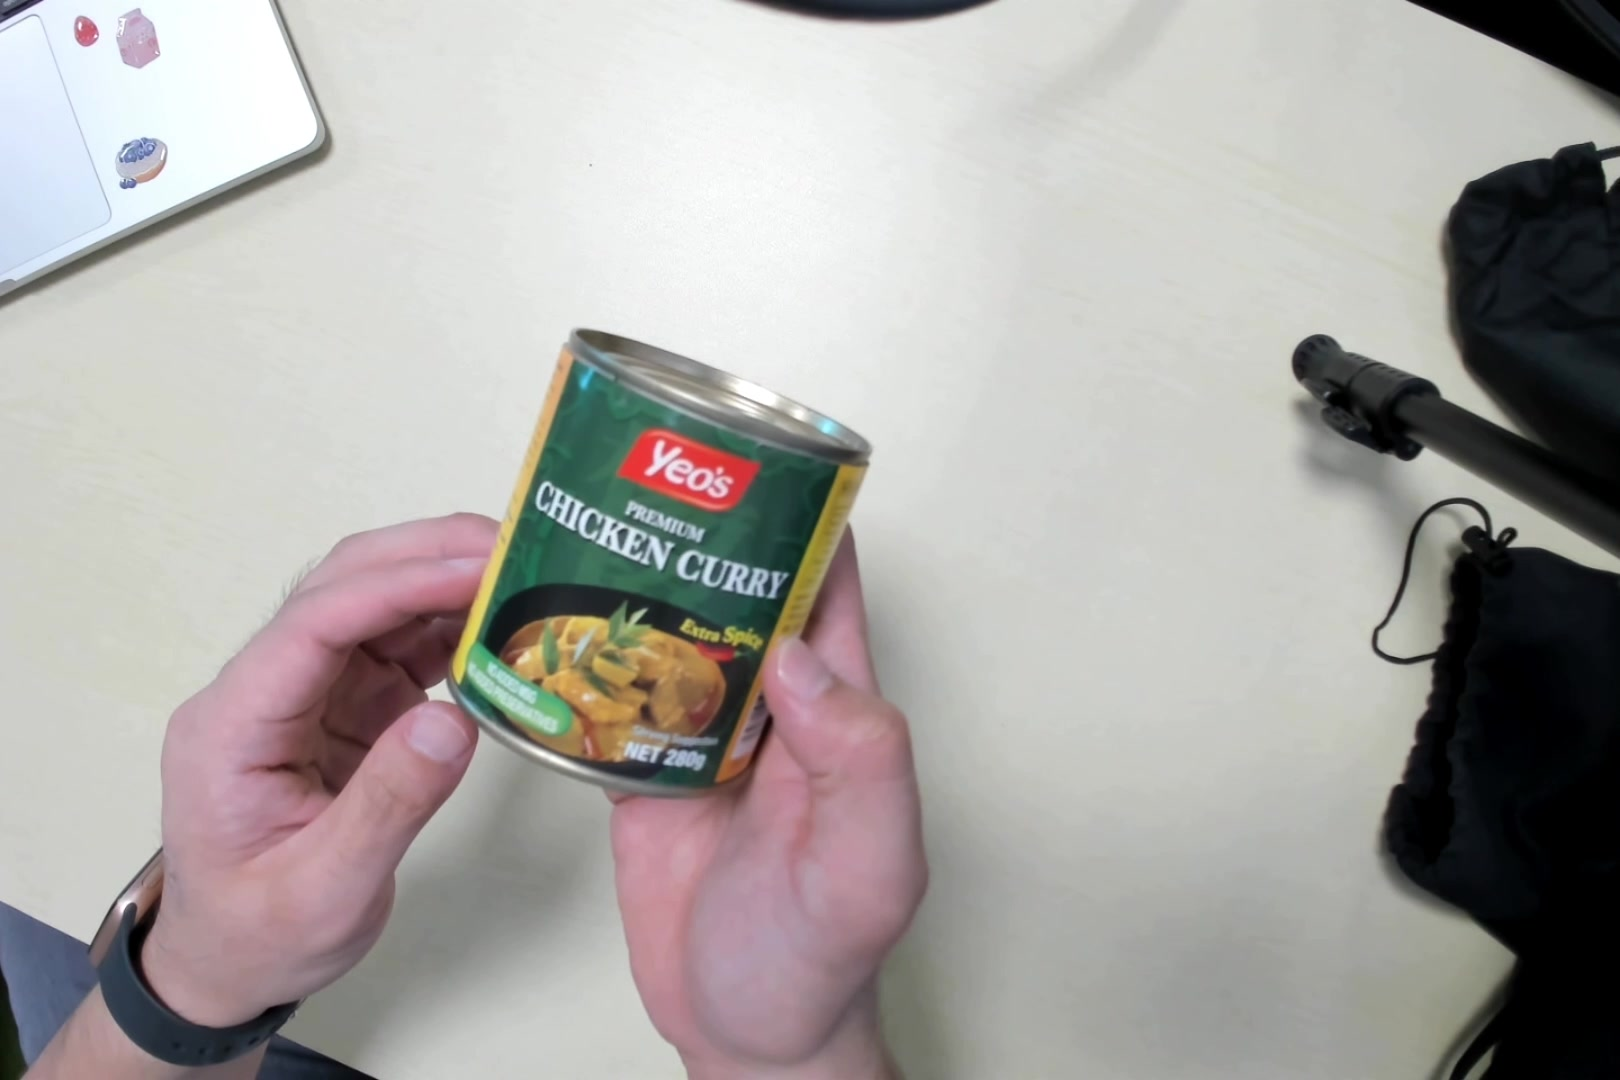CannedChicken_100-199g_Halal_NonHealthy: (472, 337, 832, 791)
